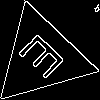E: (17, 32, 74, 88)
